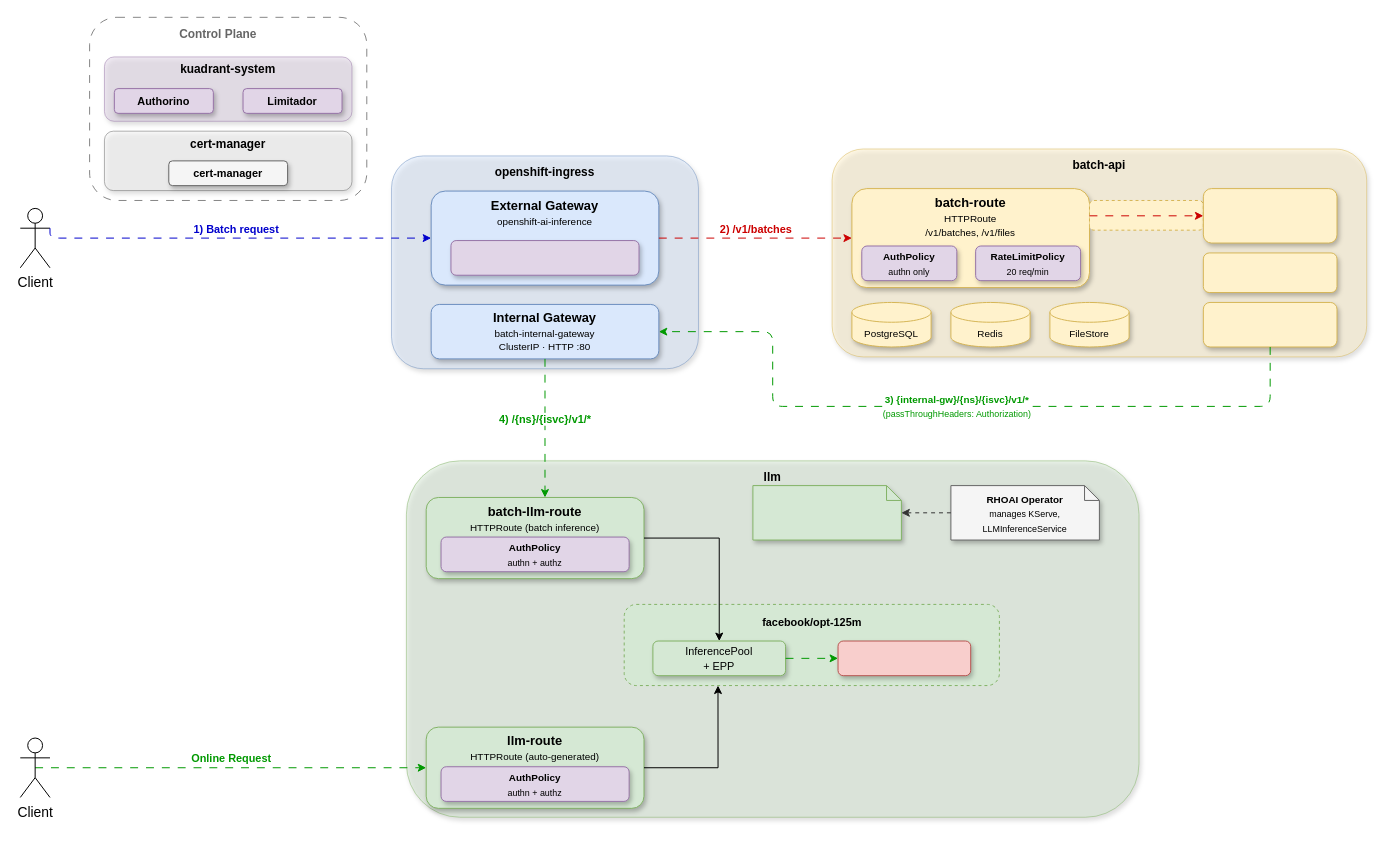
The diagram is 1390 pixels wide and 842 high, and some of its shapes have lost their labels. The centre of each missing label's shape, as x and y in pixels:
API Server HTTPS :8000: point 1270,217
DestinationRule (TLS re-encrypt): point 1146,214
GC batch-gc: point 1270,273
LLMInferenceService auto-creates route, pool, model server: point 827,514
Processor: point 1270,325
TokenRateLimitPolicy: point 545,259
vLLM (sim server): point 905,659
